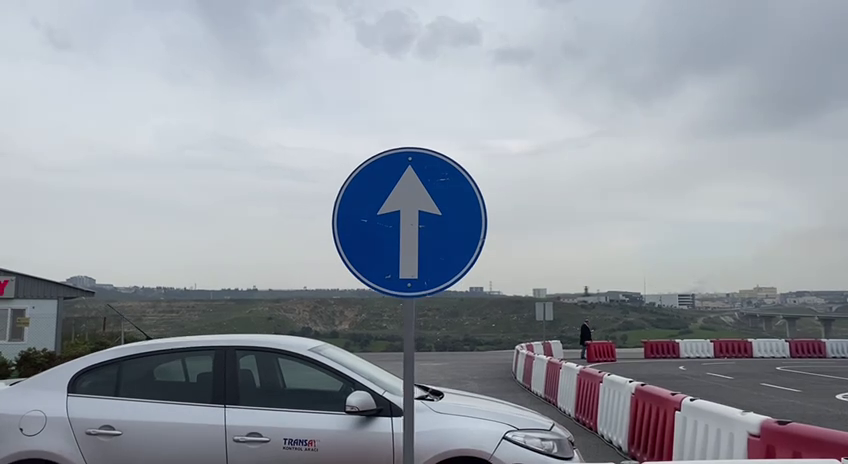forward: (330, 140, 490, 301)
